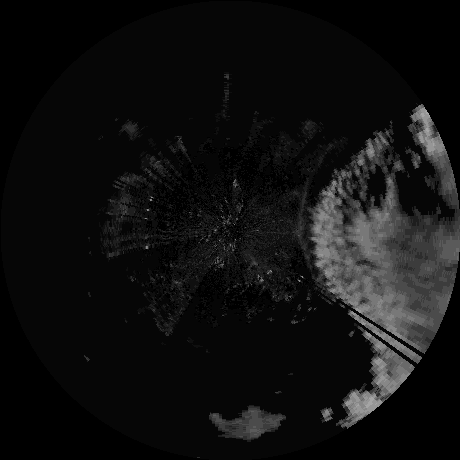frontgust: (295, 185, 315, 286)
